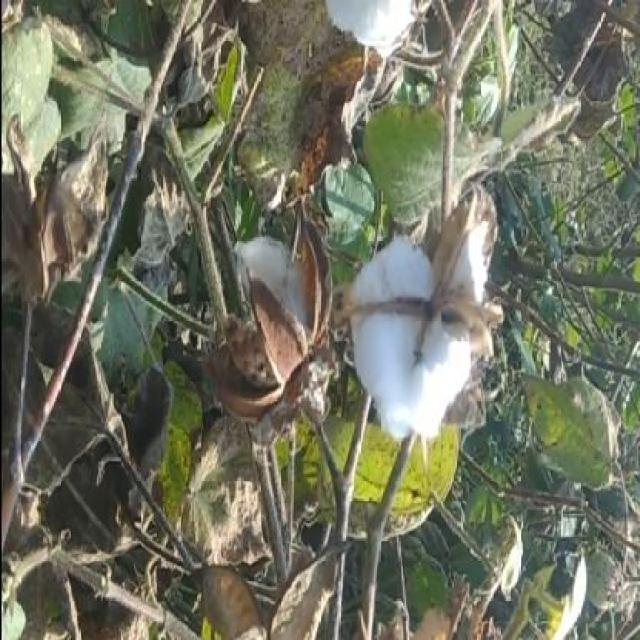cotton_ready: (338, 172, 508, 474)
